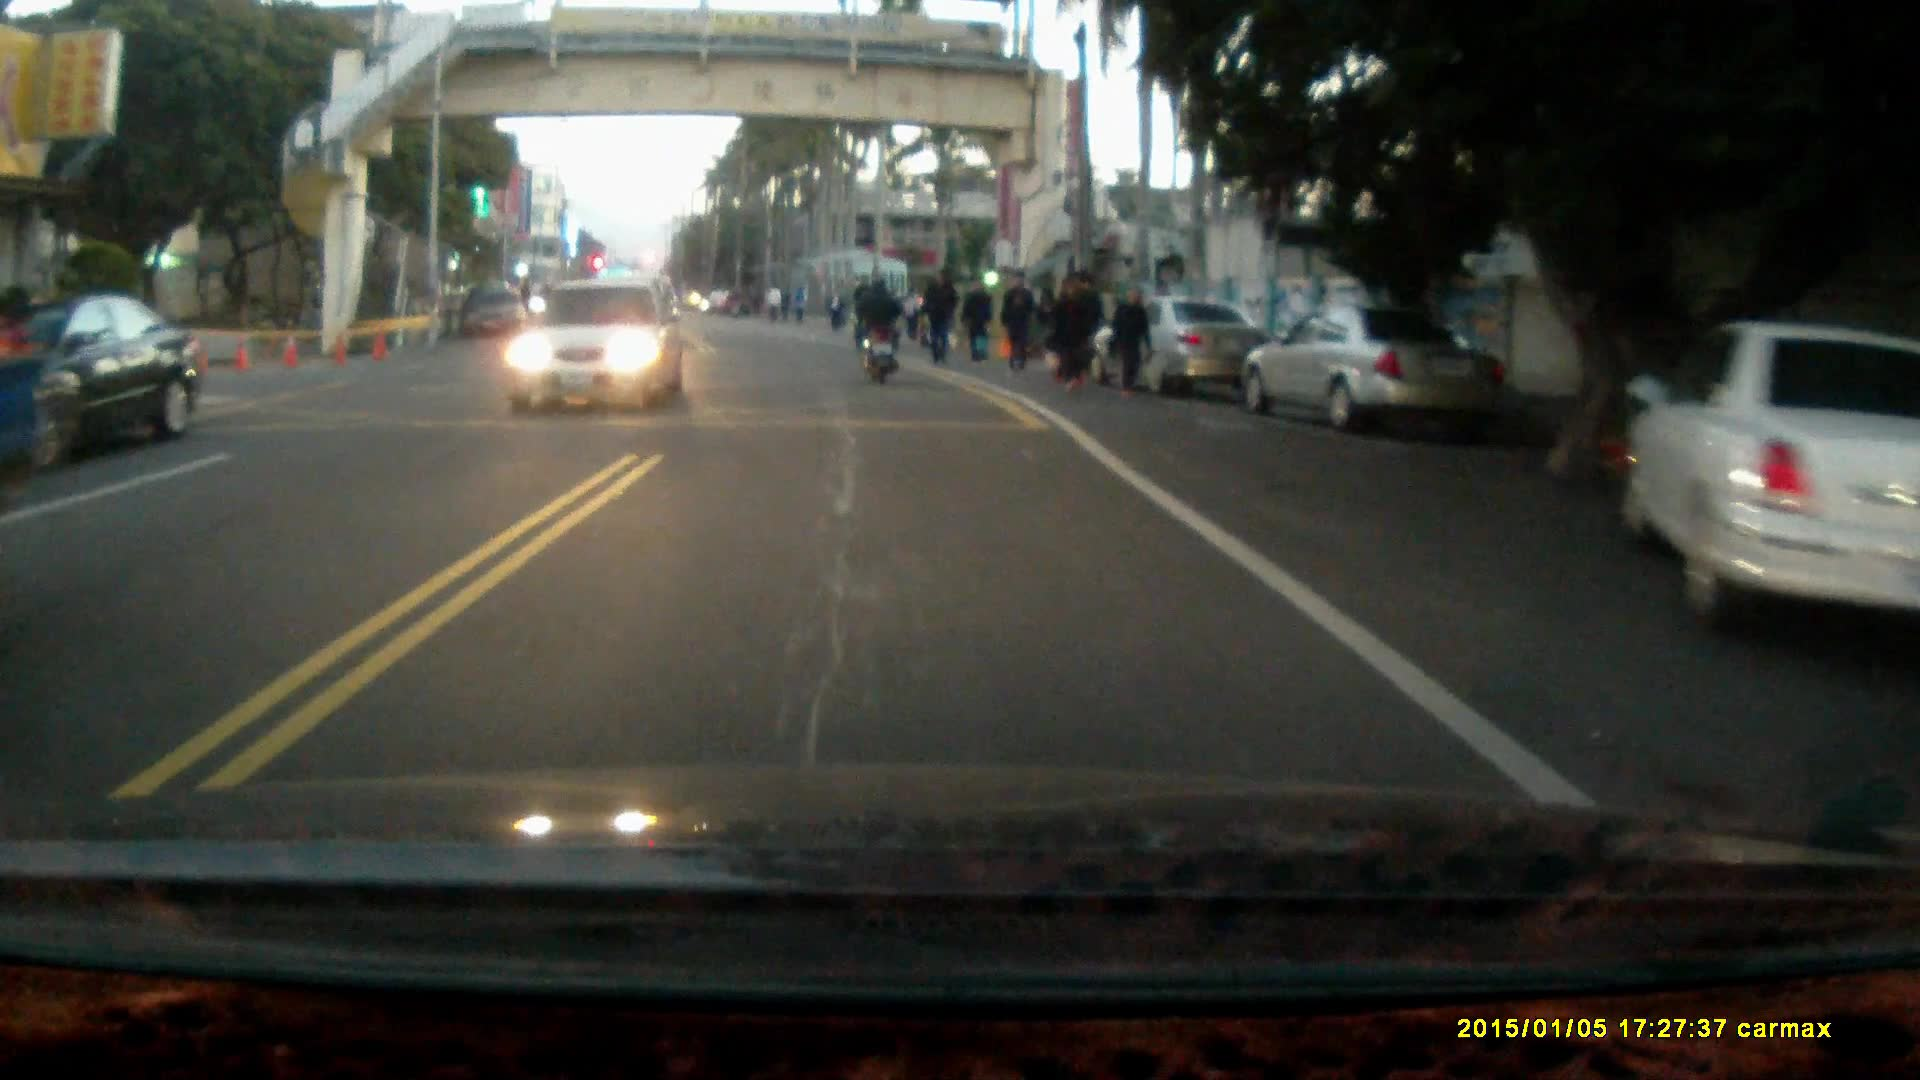pedestrian: (1109, 282, 1153, 404), (1050, 270, 1090, 388), (999, 269, 1037, 375), (1075, 270, 1108, 382), (920, 268, 958, 365), (958, 275, 994, 367)
rider: (850, 272, 906, 385)
vehicle: (1619, 319, 1912, 645), (1239, 297, 1514, 433), (1, 296, 213, 465), (496, 275, 691, 416), (1096, 293, 1277, 394)
